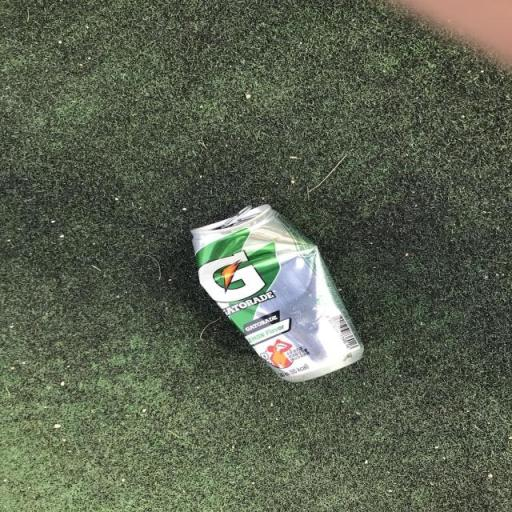metal: (159, 196, 387, 400)
